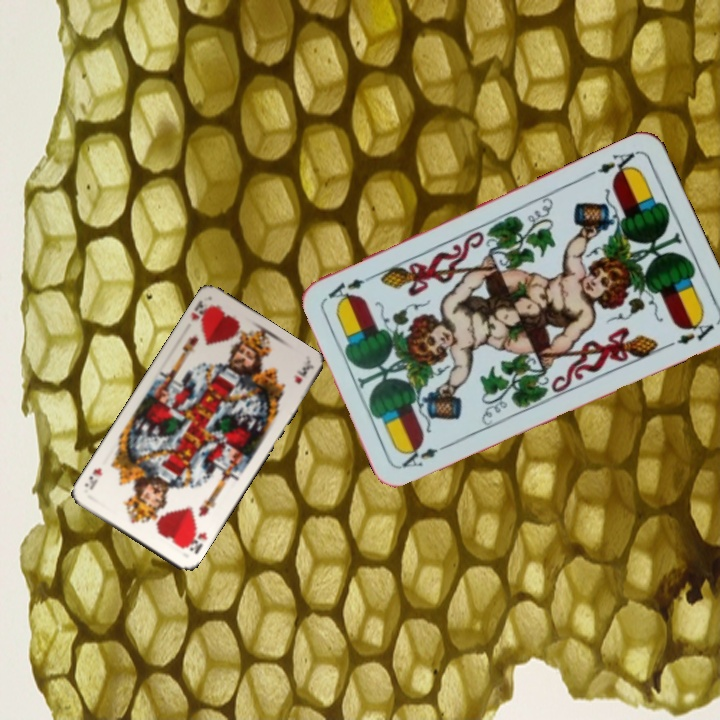EA: (593, 147, 640, 181), (397, 441, 440, 470)
HK: (180, 523, 209, 557), (187, 296, 215, 330)
